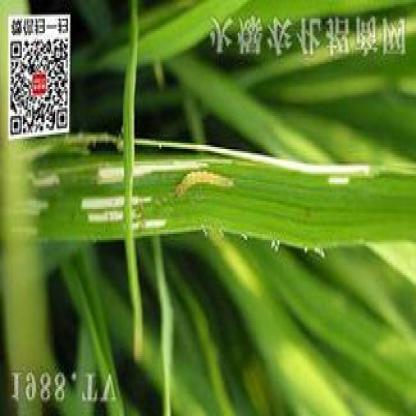leaf-folder: (173, 162, 235, 210)
